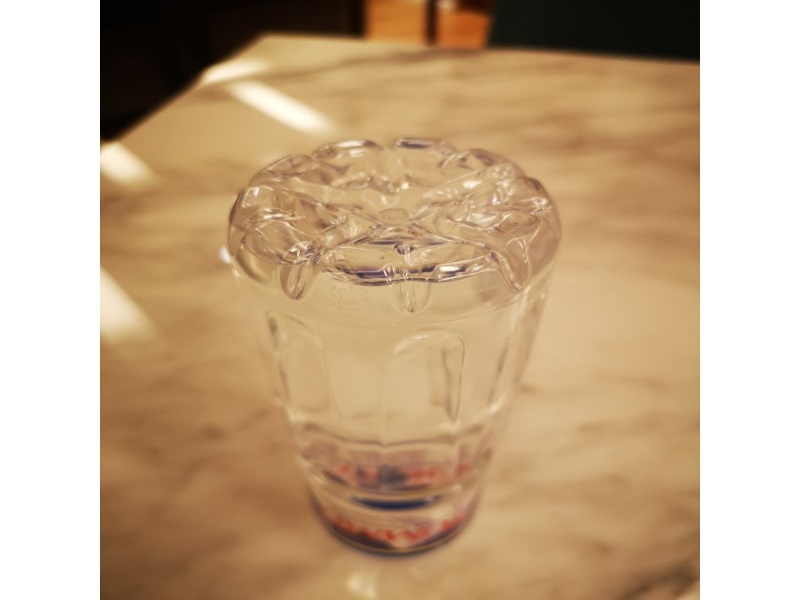PET #1: (220, 121, 567, 560)
